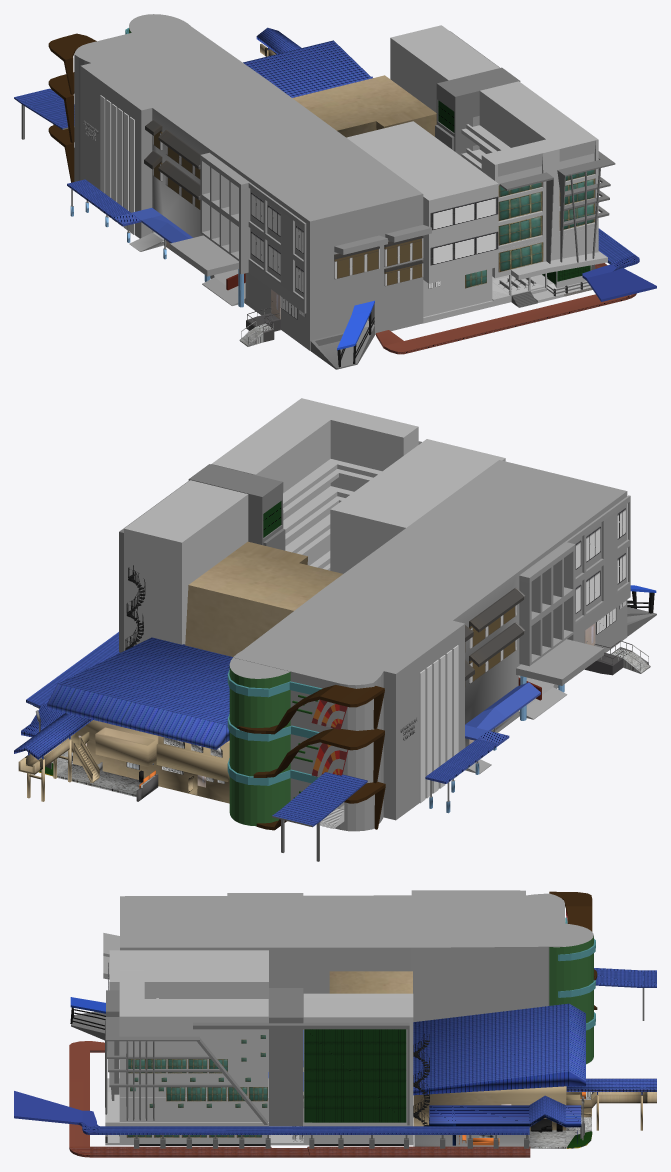
Rendered from Finance, OSS & educ.fbx.
3 views of the same model, one above another, from view 1: azimuth 30°, elevation 25°; view 2: azimuth 150°, elevation 25°; view 3: azimuth 270°, elevation 25° (orthographic). The views are drawn at different scales.
Visible parts, largest first — view 1: Plane.134, Cube.120, Plane.111, Cube.100; view 2: Plane.134, Cube.120, Plane.111, Cube.100, Plane.092; view 3: Plane.134, Cube.120, Plane.111, Cube.100, Plane.092.
Boxes of the visible parts, left/top/right/bottom form: Plane.134: left=48, top=14, right=656, bottom=369; Cube.120: left=292, top=25, right=615, bottom=323; Plane.111: left=243, top=27, right=372, bottom=97; Cube.100: left=14, top=88, right=74, bottom=139; Plane.134: left=26, top=460, right=656, bottom=831; Cube.120: left=119, top=398, right=505, bottom=656; Plane.111: left=14, top=637, right=232, bottom=803; Cube.100: left=272, top=772, right=367, bottom=861; Plane.092: left=125, top=565, right=145, bottom=650; Plane.134: left=14, top=890, right=597, bottom=1157; Cube.120: left=105, top=950, right=414, bottom=1145; Plane.111: left=413, top=1003, right=656, bottom=1148; Cube.100: left=594, top=968, right=656, bottom=1020; Plane.092: left=413, top=1033, right=429, bottom=1126.
Size of the model in its own units: 19157 by 7367 by 32215.
